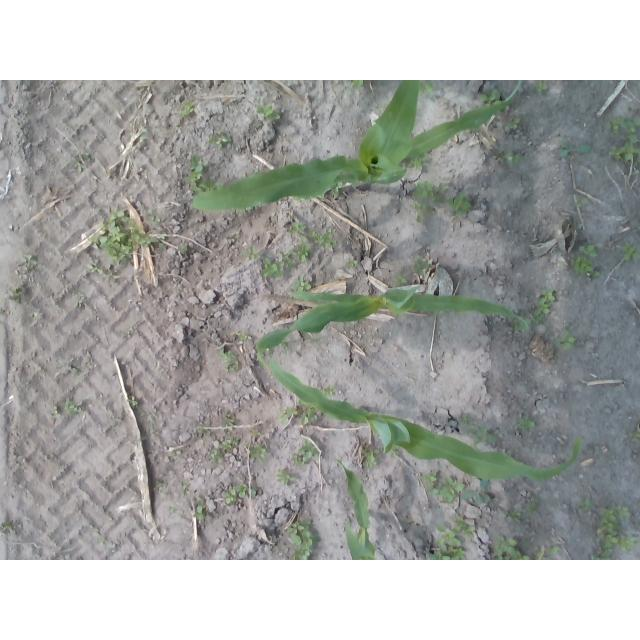Maize: (184, 81, 525, 212), (266, 347, 583, 482), (255, 284, 530, 373), (333, 458, 378, 560)
Weeds: (90, 208, 143, 265), (591, 505, 637, 560), (287, 520, 322, 561), (428, 524, 466, 560), (280, 236, 311, 271), (184, 153, 209, 195), (493, 534, 532, 560), (426, 476, 465, 502), (610, 134, 640, 166), (533, 288, 556, 322), (293, 438, 319, 466), (570, 255, 601, 278), (557, 138, 592, 158), (462, 480, 491, 504), (478, 87, 503, 114), (445, 193, 472, 216), (604, 117, 640, 134), (468, 426, 497, 447), (454, 513, 477, 539), (222, 483, 248, 506), (311, 227, 338, 249), (402, 152, 430, 172), (260, 257, 284, 280), (299, 399, 320, 425), (410, 203, 437, 222), (255, 103, 282, 121), (553, 330, 576, 350), (247, 441, 270, 461), (411, 180, 433, 200), (206, 131, 230, 149), (620, 242, 640, 263), (276, 405, 297, 425), (512, 315, 533, 334), (412, 255, 433, 274), (289, 276, 311, 293), (64, 397, 82, 417), (193, 496, 208, 520), (143, 235, 166, 250), (430, 182, 447, 202), (275, 468, 295, 485), (145, 206, 166, 222), (200, 178, 225, 191), (361, 449, 379, 467), (418, 80, 438, 96), (514, 415, 535, 430), (220, 346, 237, 364), (524, 498, 540, 517), (9, 284, 24, 304), (499, 151, 520, 165), (75, 153, 90, 172), (241, 245, 259, 260), (21, 253, 40, 267), (219, 438, 238, 452), (506, 509, 523, 524), (579, 243, 597, 257), (421, 472, 436, 488), (180, 100, 195, 116), (87, 264, 106, 276), (221, 413, 236, 428), (290, 221, 307, 234), (579, 498, 594, 511), (393, 274, 408, 287), (330, 180, 342, 196), (574, 197, 591, 208), (209, 449, 223, 462), (547, 544, 561, 556), (535, 80, 549, 92), (0, 519, 14, 531), (390, 446, 402, 459), (506, 118, 520, 129), (346, 257, 361, 267), (323, 385, 338, 395), (458, 414, 470, 426), (629, 428, 640, 441), (139, 127, 149, 141), (127, 396, 140, 406), (197, 424, 207, 437), (236, 206, 252, 214), (534, 550, 546, 560), (51, 406, 61, 418), (349, 81, 364, 88), (236, 332, 248, 340), (251, 487, 260, 496), (169, 451, 182, 457), (177, 247, 187, 254), (155, 480, 163, 488), (182, 483, 189, 490), (226, 365, 234, 371), (375, 103, 382, 109), (77, 292, 84, 297)
